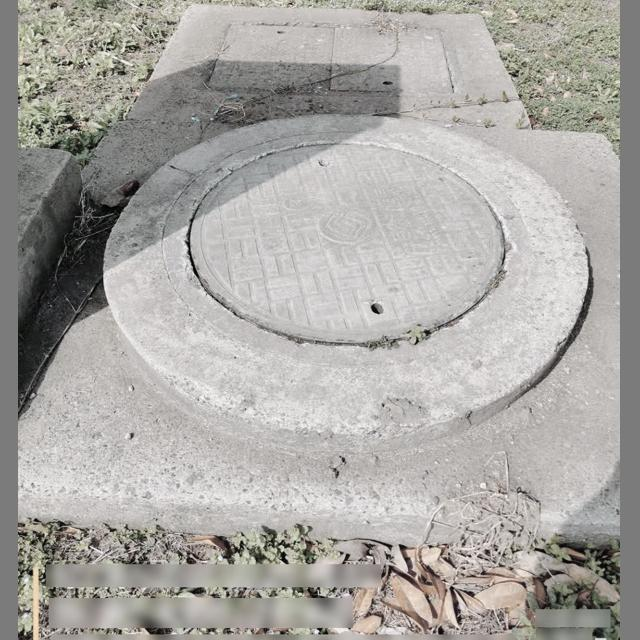good: (163, 132, 526, 362), (205, 20, 468, 98)
